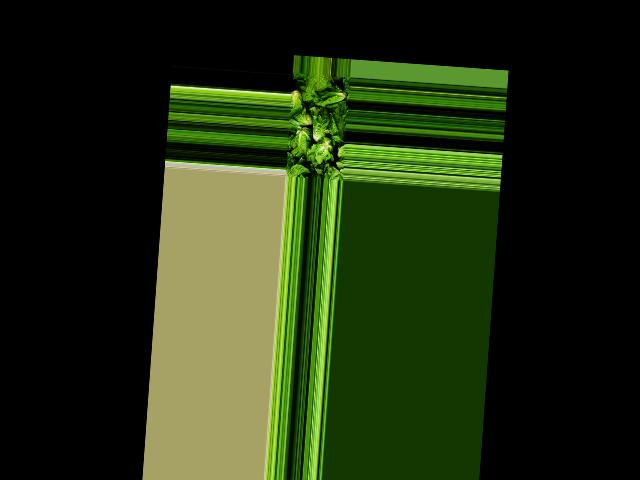lettuce: (289, 84, 305, 120)
